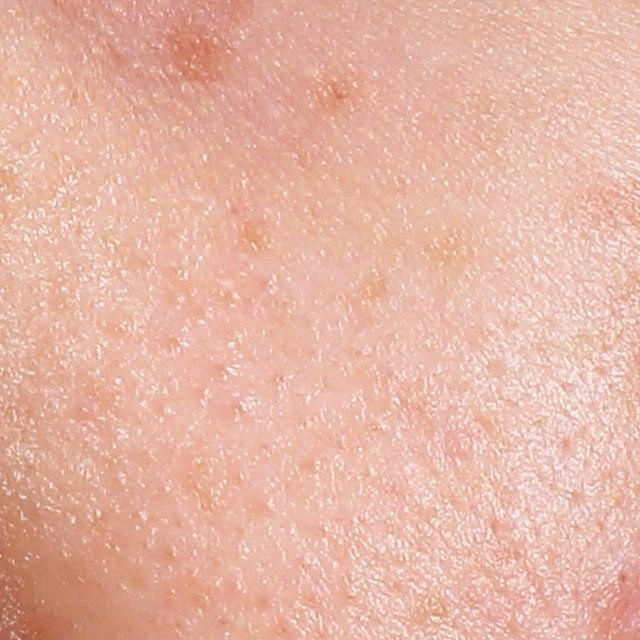melasma: (161, 14, 234, 86), (236, 202, 285, 267), (306, 56, 369, 104), (344, 264, 390, 300)
